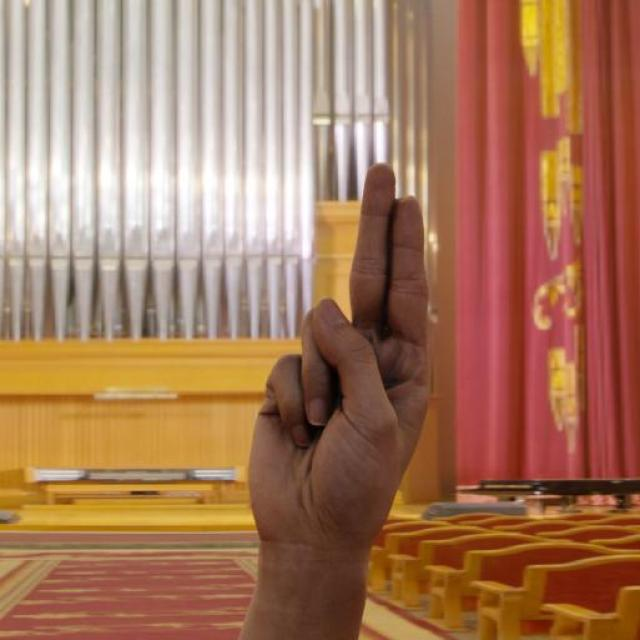U: (245, 160, 434, 554)
